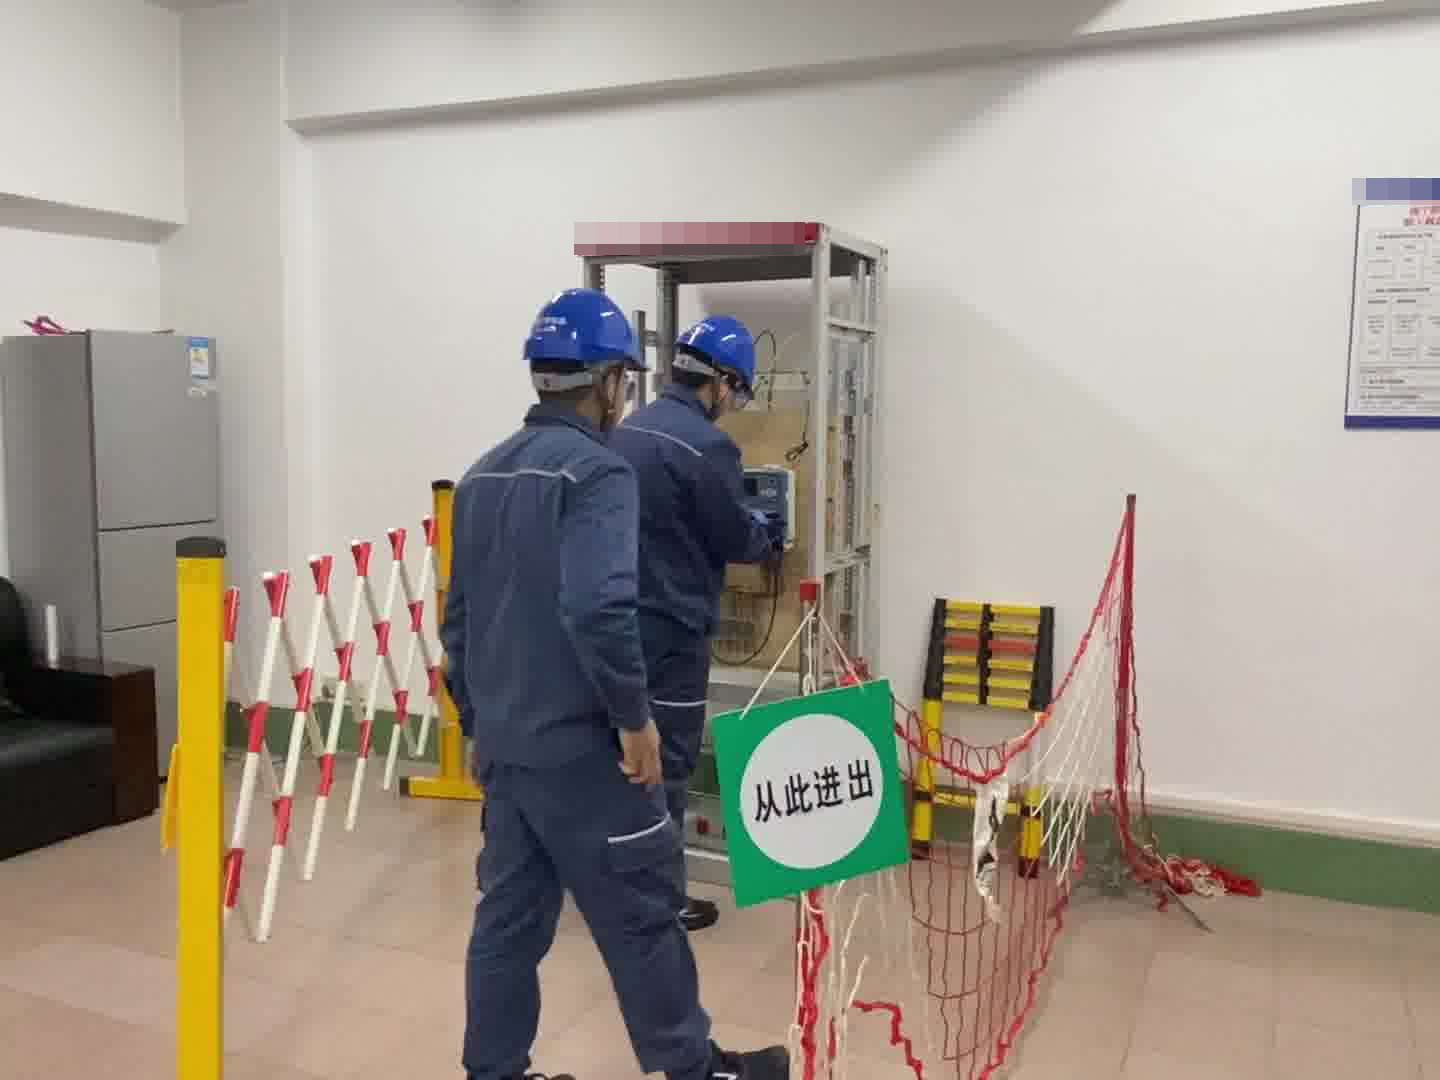downsuit: (456, 767, 706, 1080), (644, 679, 707, 829)
glove: (748, 508, 790, 552)
halt: (521, 287, 645, 415), (671, 313, 760, 407)
hand: (615, 723, 665, 792)
inear: (581, 361, 626, 409), (706, 369, 736, 409)
intosign: (700, 667, 918, 907)
person: (433, 282, 715, 1080), (612, 314, 788, 934)
upsuit: (440, 416, 653, 754), (611, 389, 767, 666)
